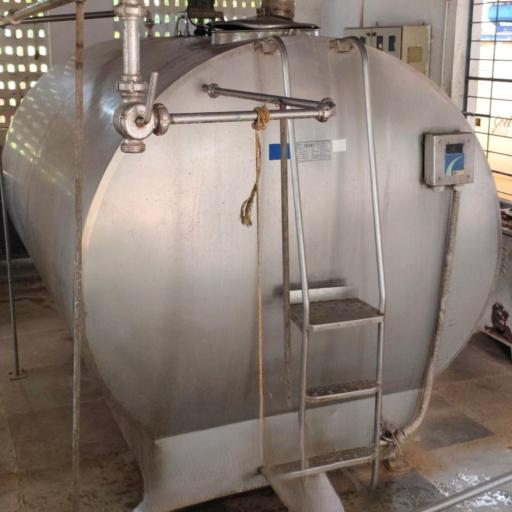silo: (0, 33, 501, 511)
